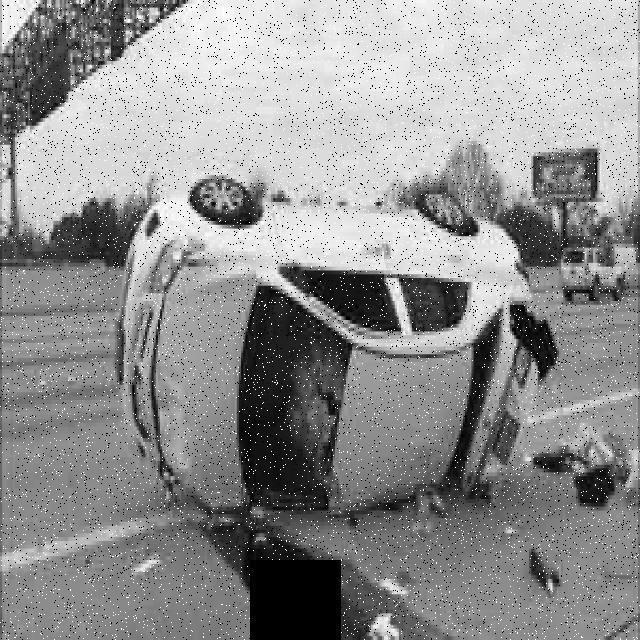accident: (107, 166, 540, 524)
vehicle: (557, 246, 629, 304)
